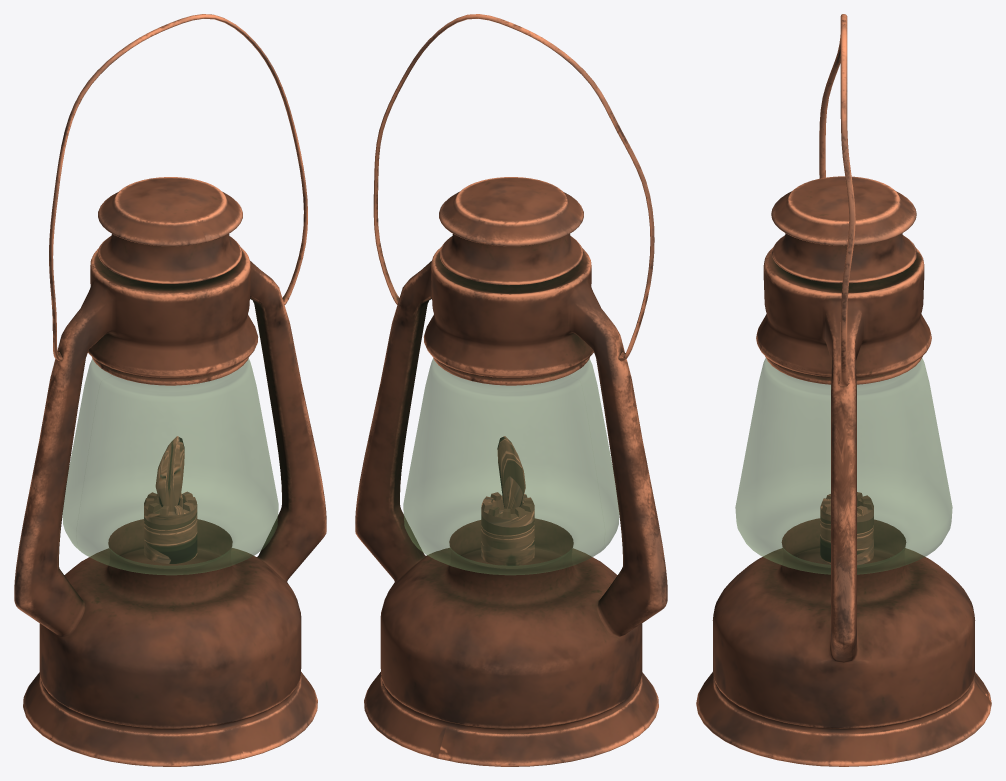
3 renders of one model, left to right at view 1: azimuth 30°, elevation 25°; view 2: azimuth 150°, elevation 25°; view 3: azimuth 270°, elevation 25°, orthographic.
Parts seen in each view (by area): view 1: Lamp_Low_Poly_OBJ_UV:Lampo, Lamp_Low_Poly_OBJ_UV:pCylinder1, Lamp_Low_Poly_OBJ_UV:pCube1; view 2: Lamp_Low_Poly_OBJ_UV:Lampo, Lamp_Low_Poly_OBJ_UV:pCylinder1, Lamp_Low_Poly_OBJ_UV:pCube1; view 3: Lamp_Low_Poly_OBJ_UV:Lampo, Lamp_Low_Poly_OBJ_UV:pCylinder1.
Part boxes in pixels (left/top/right/bottom): Lamp_Low_Poly_OBJ_UV:Lampo: left=14, top=14, right=326, bottom=766; Lamp_Low_Poly_OBJ_UV:pCylinder1: left=144, top=491, right=197, bottom=563; Lamp_Low_Poly_OBJ_UV:pCube1: left=155, top=436, right=184, bottom=511; Lamp_Low_Poly_OBJ_UV:Lampo: left=355, top=14, right=667, bottom=766; Lamp_Low_Poly_OBJ_UV:pCylinder1: left=481, top=492, right=534, bottom=565; Lamp_Low_Poly_OBJ_UV:pCube1: left=497, top=436, right=525, bottom=513; Lamp_Low_Poly_OBJ_UV:Lampo: left=696, top=14, right=991, bottom=766; Lamp_Low_Poly_OBJ_UV:pCylinder1: left=820, top=492, right=873, bottom=564.
Size of the model in its own units: 4.59 by 9.69 by 3.8.
Materials: 1 (1 with a texture image).
